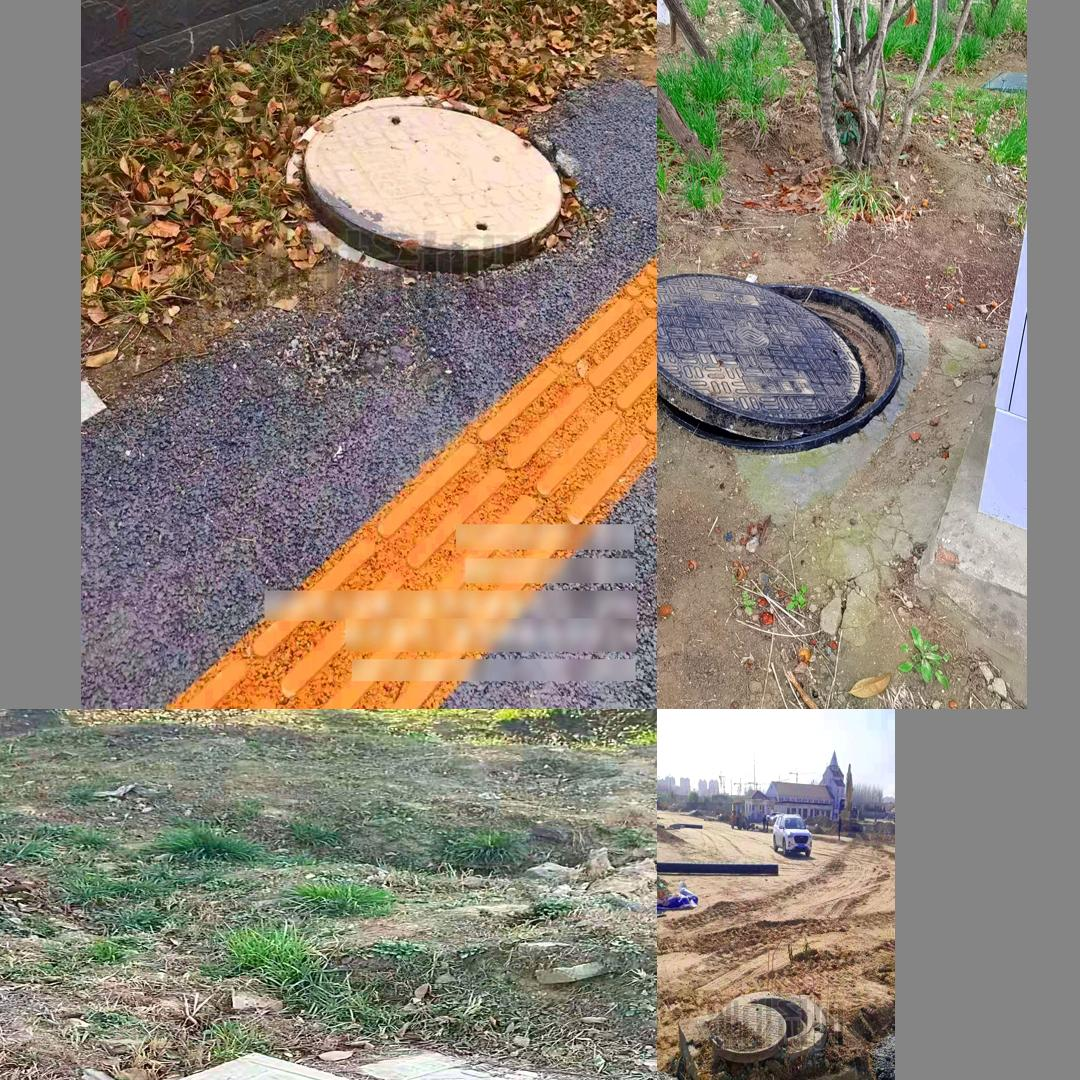uncovered: (285, 91, 572, 267), (657, 271, 904, 454), (42, 1036, 566, 1080), (709, 990, 827, 1064)
